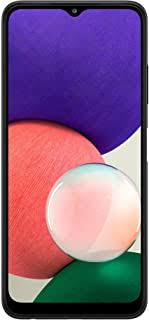Smartphone: (2, 2, 145, 320)
